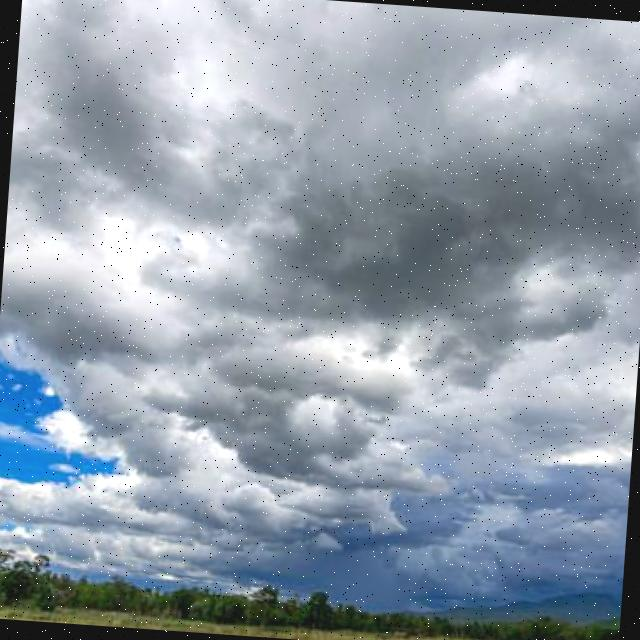Ns: (1, 18, 640, 574)
